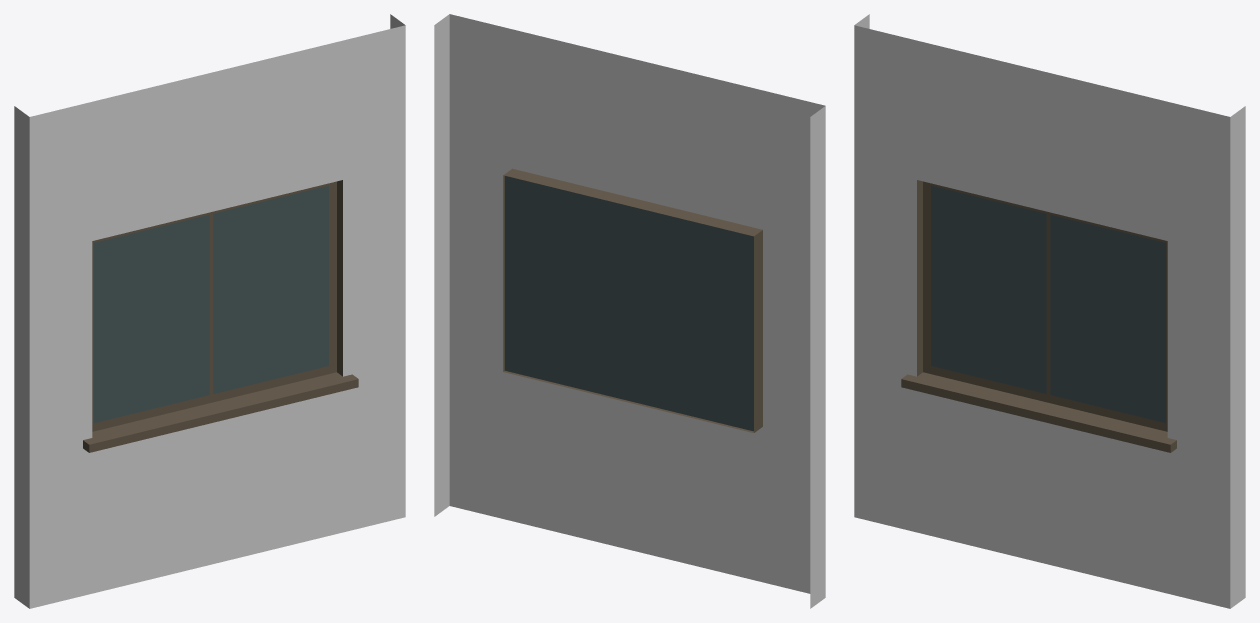
The model's file is top-stair.fbx.
3 renders of one model, left to right at view 1: azimuth 30°, elevation 25°; view 2: azimuth 150°, elevation 25°; view 3: azimuth 330°, elevation 25°, orthographic.
Parts seen in each view (by area): view 1: a2015/800/top-stair; view 2: a2015/800/top-stair; view 3: a2015/800/top-stair.
Boxes of the visible parts, x1,y1,x2,y2 form: a2015/800/top-stair: (14, 14, 405, 608); a2015/800/top-stair: (434, 14, 825, 608); a2015/800/top-stair: (854, 14, 1245, 608).
Size of the model in its own units: 2.4 by 3 by 0.24.
